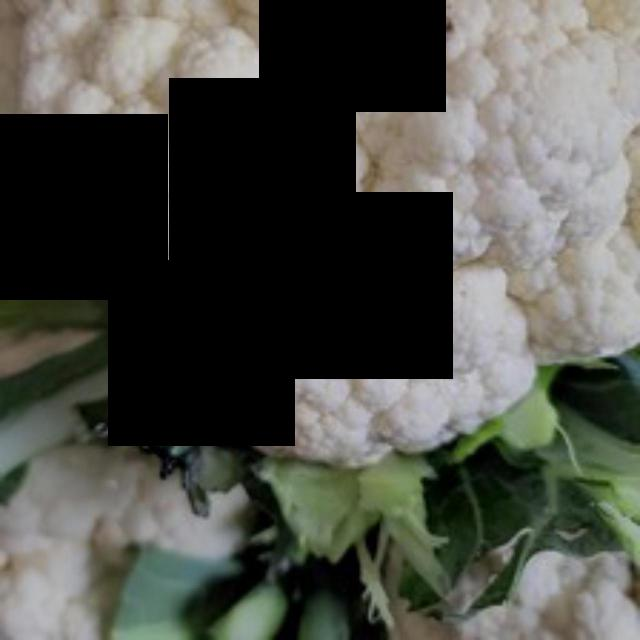cauliflower: (0, 0, 637, 480)
